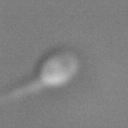normal: (1, 76, 42, 117)
